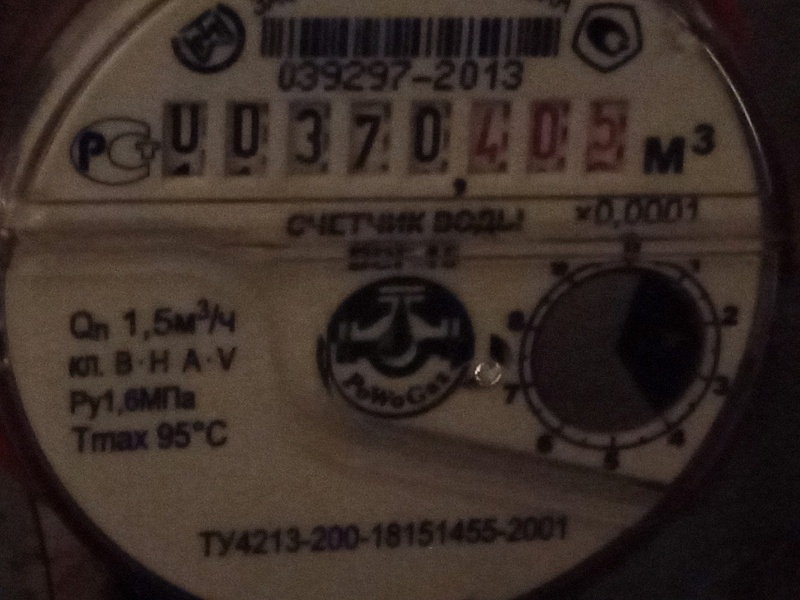meter: (151, 98, 624, 180)
